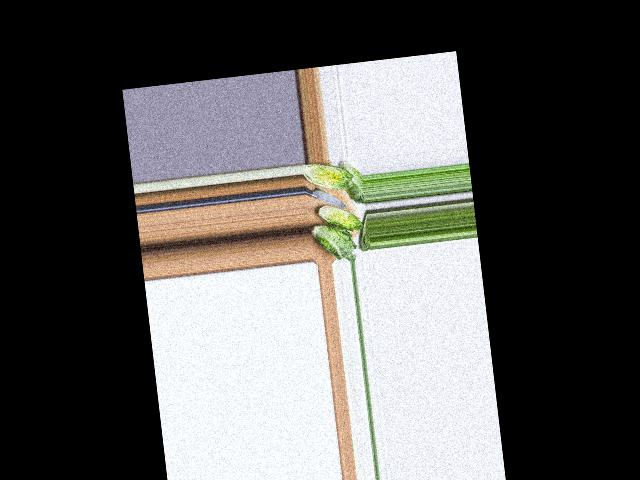lettuce: (339, 160, 363, 204)
